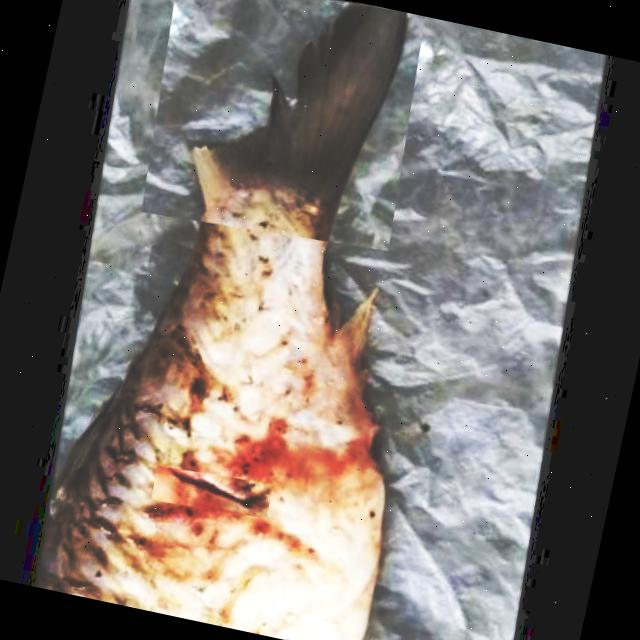Aeromonas Septicemia: (33, 5, 405, 640)
